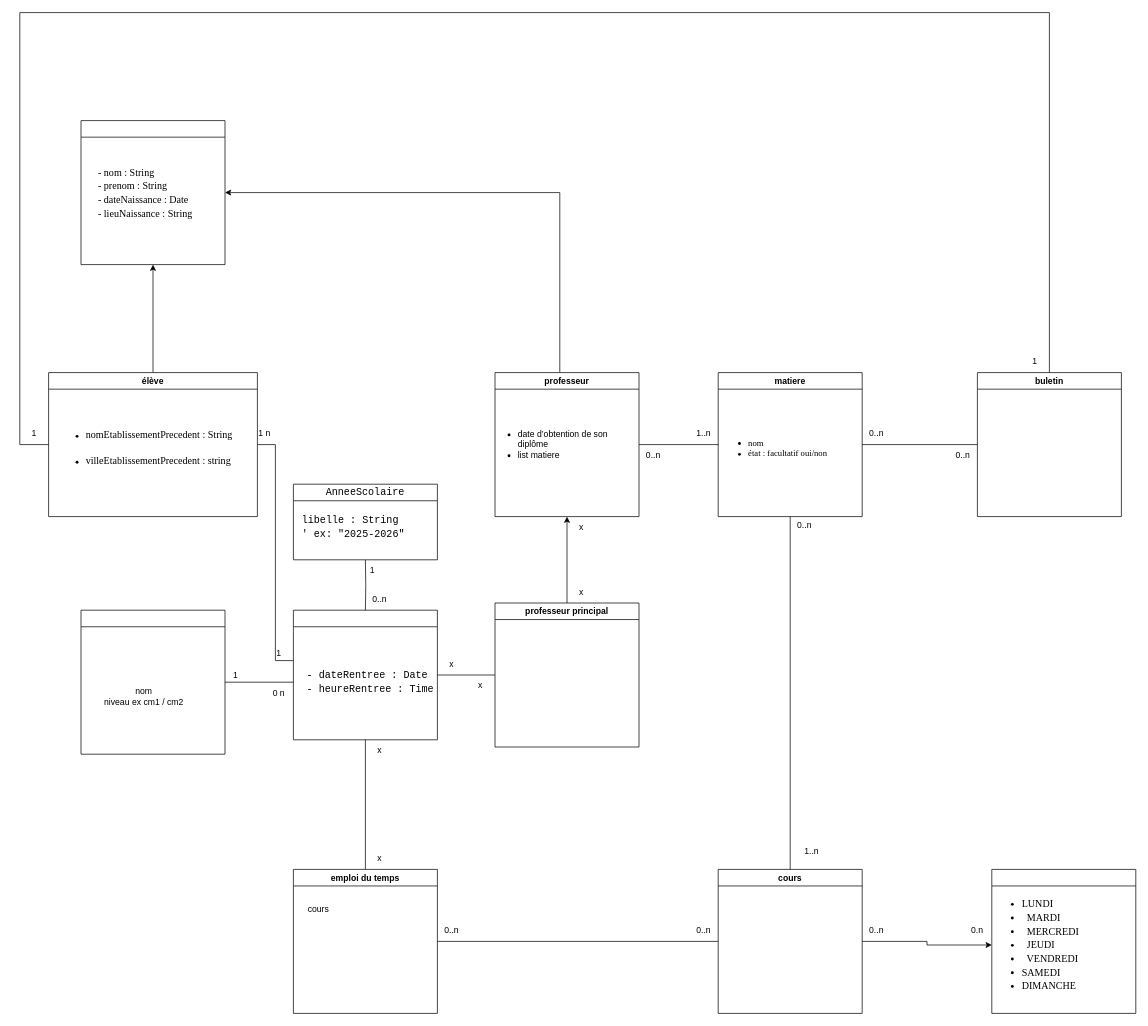
The diagram is 1148 pixels wide and 1026 high, and some of its shapes have lost their labels. The shapes that lost their labels are listed below. From the top down, each one's box as (x1, y1, x2, y2) in pixels, then its label:
(80, 120, 225, 265): personne
(80, 609, 225, 754): classe
(293, 609, 437, 740): ClasseAnnuelle
(991, 869, 1136, 1013): JourSemaine
